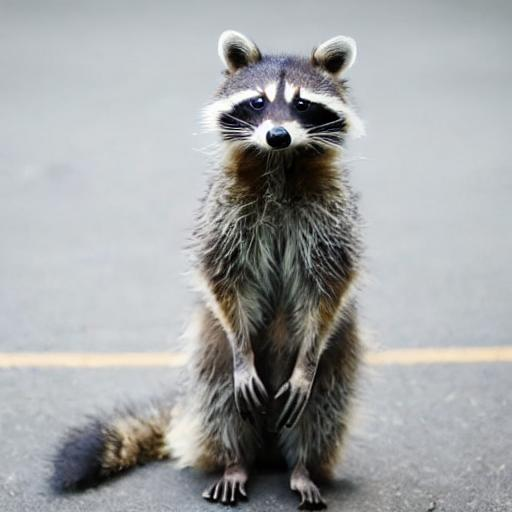raccoon: (48, 24, 381, 497)
